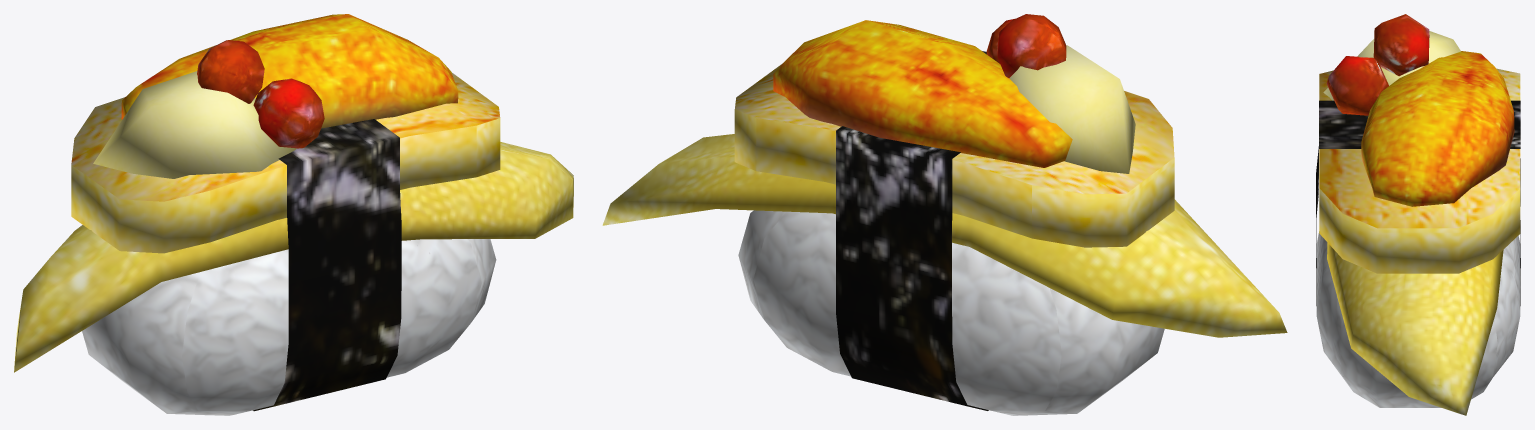
The model's file is egg_party.fbx.
The picture shows the model from 3 angles, left to right: view 1: azimuth 30°, elevation 25°; view 2: azimuth 150°, elevation 25°; view 3: azimuth 270°, elevation 25°; orthographic projection. The views are drawn at different scales.
Parts seen in each view (by area): view 1: egg_party; view 2: egg_party; view 3: egg_party.
Part boxes in pixels (bbox=[...]): egg_party: bbox=[14, 14, 573, 415]; egg_party: bbox=[602, 14, 1287, 415]; egg_party: bbox=[1316, 14, 1520, 415].
Size of the model in its own units: 9.55 by 5.37 by 3.15.
